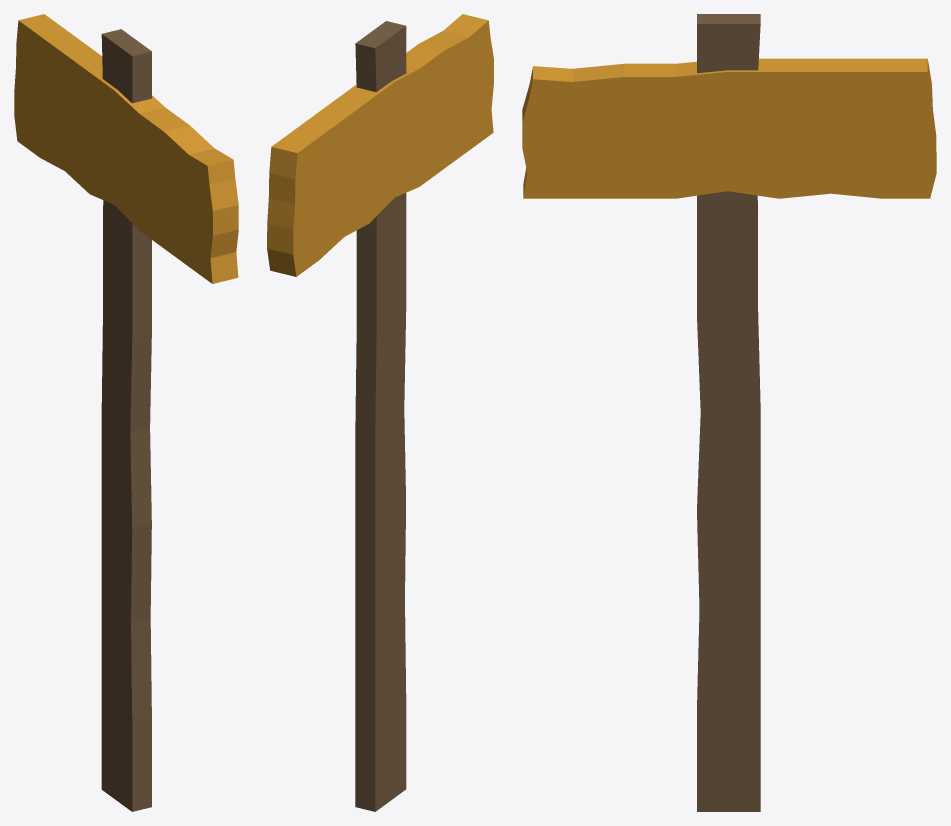
Rendered from SIGNAGE WITH ONE BOARD (1).fbx.
3 views of the same model, side by side, from view 1: azimuth 30°, elevation 25°; view 2: azimuth 150°, elevation 25°; view 3: azimuth 270°, elevation 25° (orthographic). The views are drawn at different scales.
Visible parts, largest first — view 1: SIGN WITH 1 BOARD; view 2: SIGN WITH 1 BOARD; view 3: SIGN WITH 1 BOARD.
Part boxes in pixels (bbox=[...]): SIGN WITH 1 BOARD: bbox=[14, 14, 238, 811]; SIGN WITH 1 BOARD: bbox=[267, 14, 493, 811]; SIGN WITH 1 BOARD: bbox=[522, 14, 936, 811].
Bounding box in the file's own units: 4.51 × 125 × 59.8.
